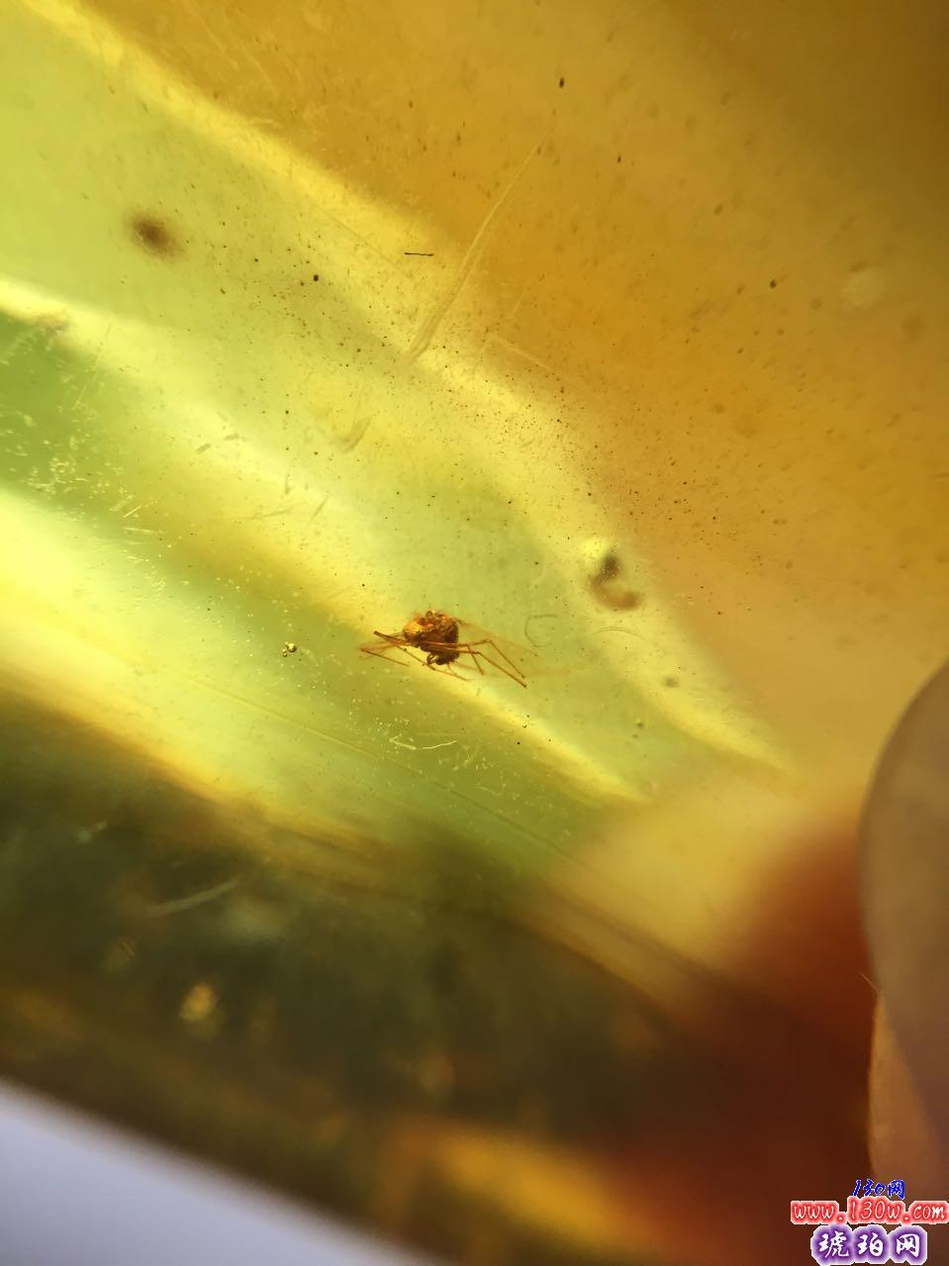tiny_pests: (336, 569, 569, 721)
